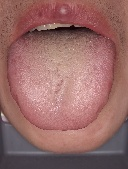tongue: (5, 39, 115, 131)
